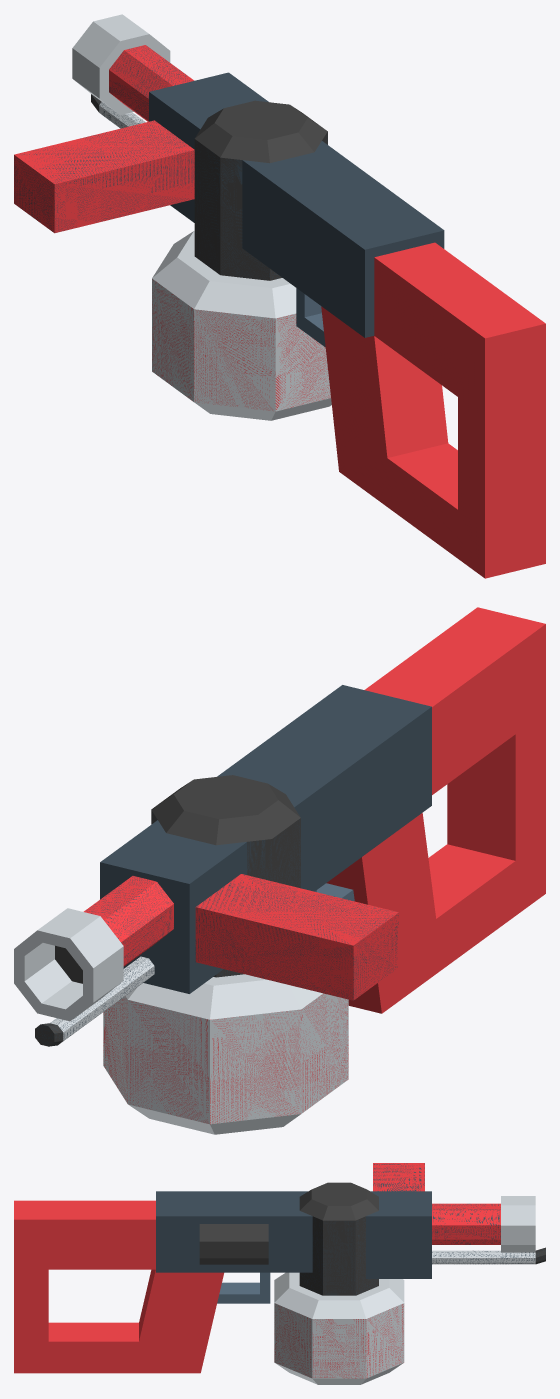
Rendered from flamethrower_long.obj.
3 views of the same model, one above another, from view 1: azimuth 30°, elevation 25°; view 2: azimuth 150°, elevation 25°; view 3: azimuth 270°, elevation 25° (orthographic). The views are drawn at different scales.
Parts seen in each view (by area): view 1: Group; view 2: Group; view 3: Group.
Part boxes in pixels (<box>): Group: <box>14,14,545,578</box>; Group: <box>14,607,545,1134</box>; Group: <box>14,1163,545,1384</box>.
Size of the model in its own units: 0.2194 by 0.2067 by 0.5887.
